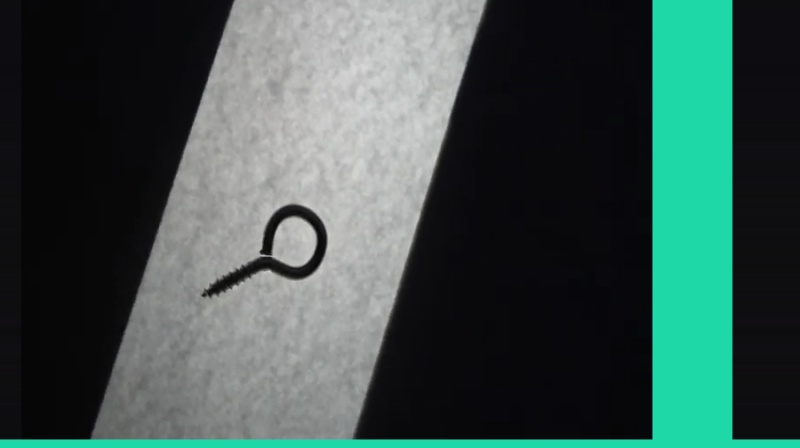O001: (196, 199, 336, 300)
